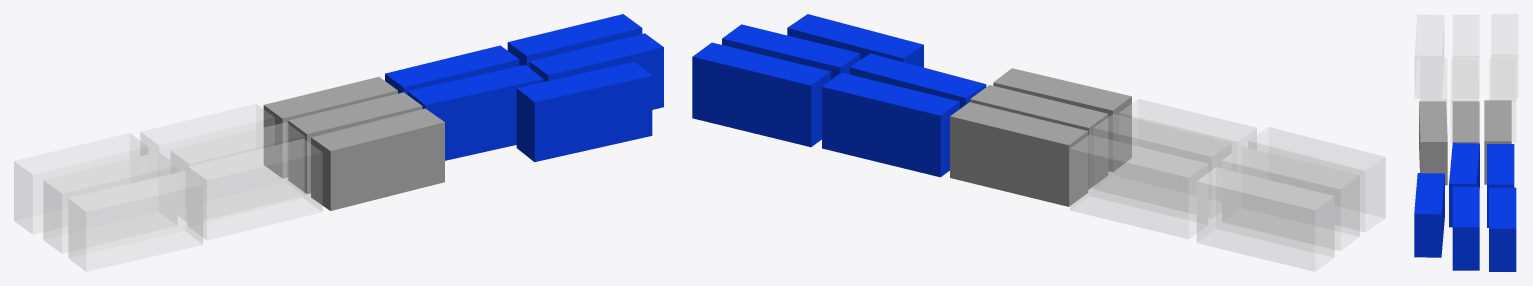
Rendered from Cake_p6lebj_Pack01.fbx.
3 renders of one model, left to right at view 1: azimuth 30°, elevation 25°; view 2: azimuth 150°, elevation 25°; view 3: azimuth 270°, elevation 25°, orthographic. The views are drawn at different scales.
Parts seen in each view (by area): view 1: Cake_p6lebj_Pack01; view 2: Cake_p6lebj_Pack01; view 3: Cake_p6lebj_Pack01.
Part boxes in pixels (box(x1,y1,x2,y2)): Cake_p6lebj_Pack01: box(14, 14, 663, 271); Cake_p6lebj_Pack01: box(692, 14, 1385, 271); Cake_p6lebj_Pack01: box(1414, 14, 1518, 271).
Bounding box in the file's own units: 115 × 10.88 × 23.73.
